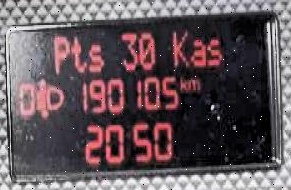0: (103, 121, 123, 163), (152, 121, 172, 160), (137, 30, 156, 71), (106, 76, 125, 113), (17, 80, 34, 115), (142, 75, 159, 110)
1: (79, 80, 87, 111), (135, 76, 141, 110)
2: (83, 121, 102, 163)
3: (119, 30, 137, 71)
5: (131, 120, 151, 161), (161, 73, 177, 108)
9: (88, 78, 104, 113)
X: (171, 26, 190, 66), (70, 33, 86, 73), (53, 34, 69, 73), (206, 35, 222, 66), (87, 40, 103, 70), (191, 35, 206, 66), (188, 75, 201, 90), (178, 73, 187, 91)
